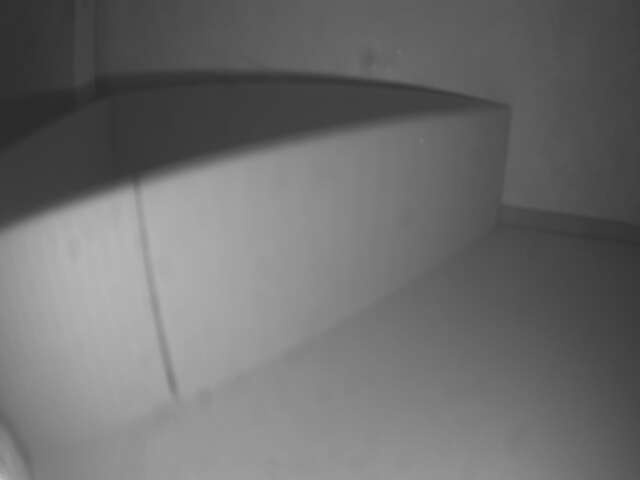Point: (0, 106, 513, 446)
